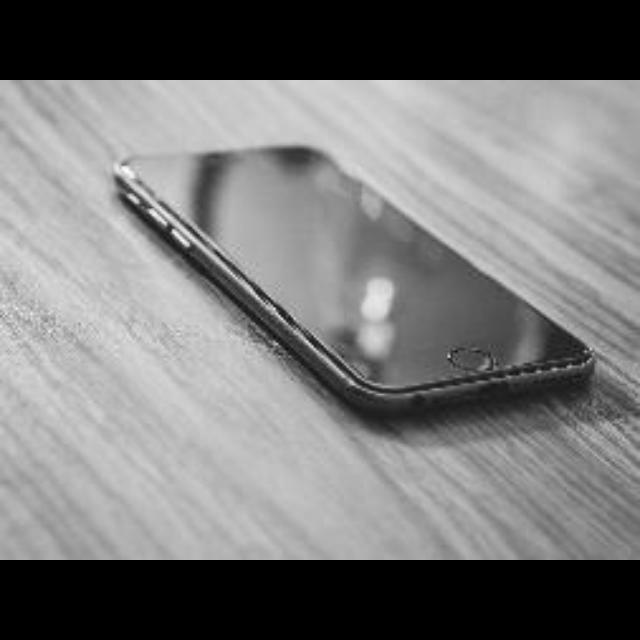fake: (86, 92, 608, 477)
